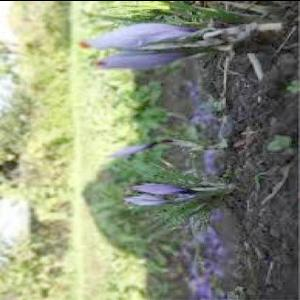Saffron: (85, 21, 207, 50), (91, 42, 192, 70), (104, 138, 158, 156), (132, 179, 190, 194), (122, 192, 174, 206)
